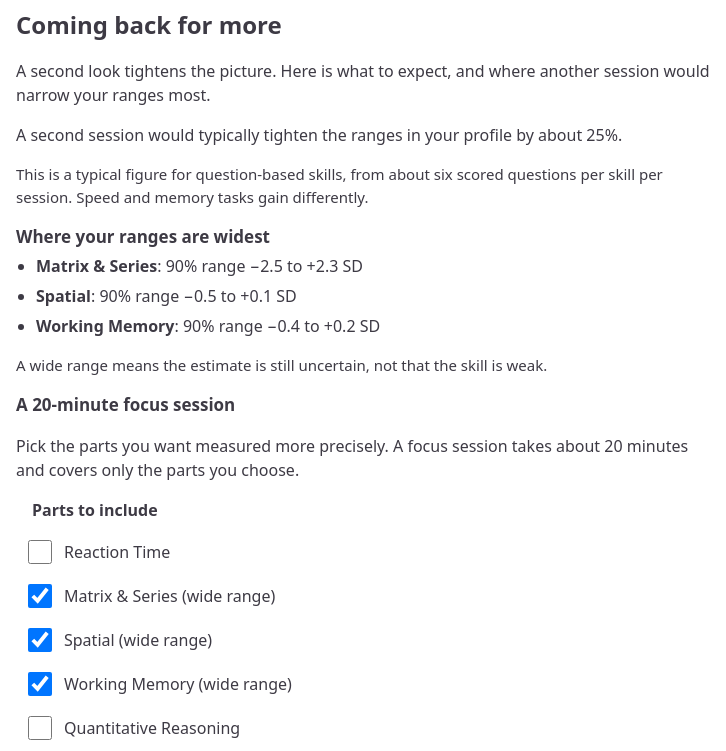
Test: FocusPicker rows (UX-033) › each row is one label around its checkbox, so the whole row is the target, and every box keeps its id
The width and height of the screenshot is (726, 751).
Pressing the label's text ticks the box.
Click the text "Quantitative Reasoning": point(152, 728) [64, 716, 240, 740]
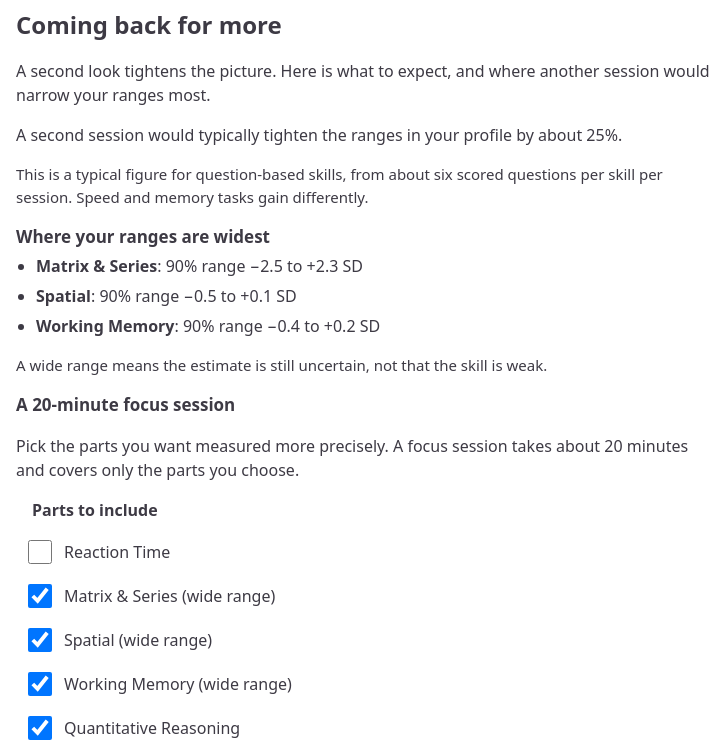
Check: the checkbox labelled "Quantitative Reasoning" is checked, box [28, 716, 52, 740]
